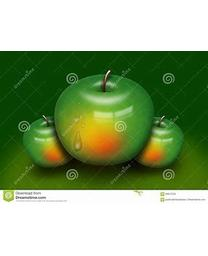apple: (53, 70, 154, 165), (21, 114, 72, 168), (135, 115, 184, 167)
